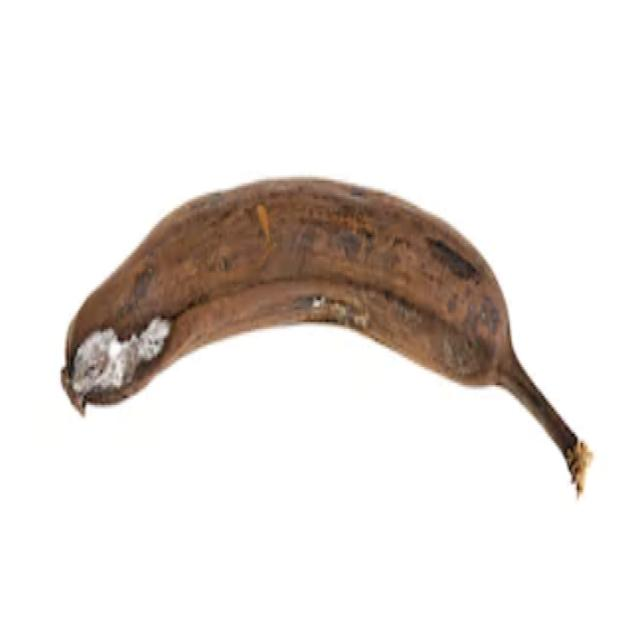Rotten: (52, 161, 602, 517)
